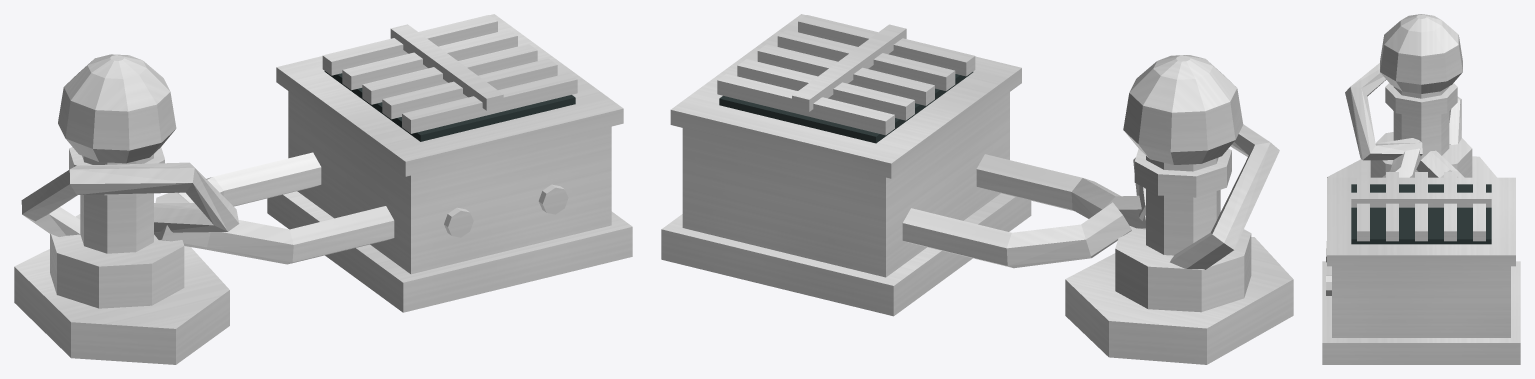
Rendered from mechband_antenna.obj.
The picture shows the model from 3 angles, left to right: view 1: azimuth 30°, elevation 25°; view 2: azimuth 150°, elevation 25°; view 3: azimuth 270°, elevation 25°; orthographic projection. The views are drawn at different scales.
Parts seen in each view (by area): view 1: mechband_antenna; view 2: mechband_antenna; view 3: mechband_antenna.
Boxes of the visible parts, x1,y1,x2,y2 form: mechband_antenna: (14, 14, 632, 364); mechband_antenna: (661, 14, 1293, 364); mechband_antenna: (1322, 14, 1520, 364).
Bounding box in the file's own units: 1.83 × 0.86 × 0.82.
